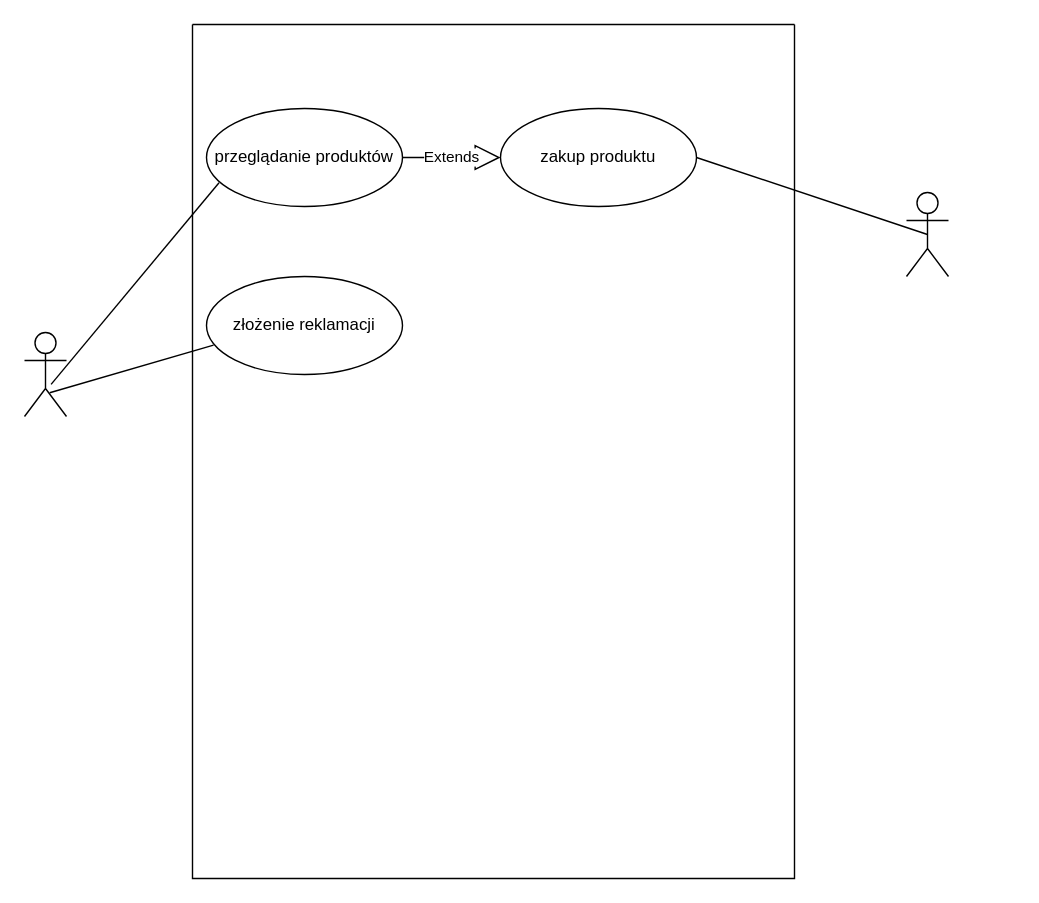
Some shapes in this 1039 by 903 pixel diagram are drawn without their labels. Here are the shapes that lost their labels. From the top down, the centre of each, then its label:
At (x=926, y=233): "sposób płatności online".
At (x=44, y=373): "Klient".
